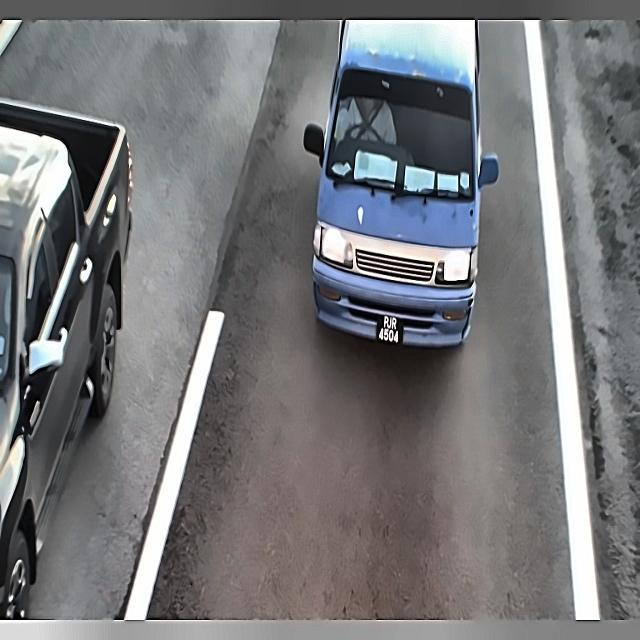car: (365, 311, 414, 345)
